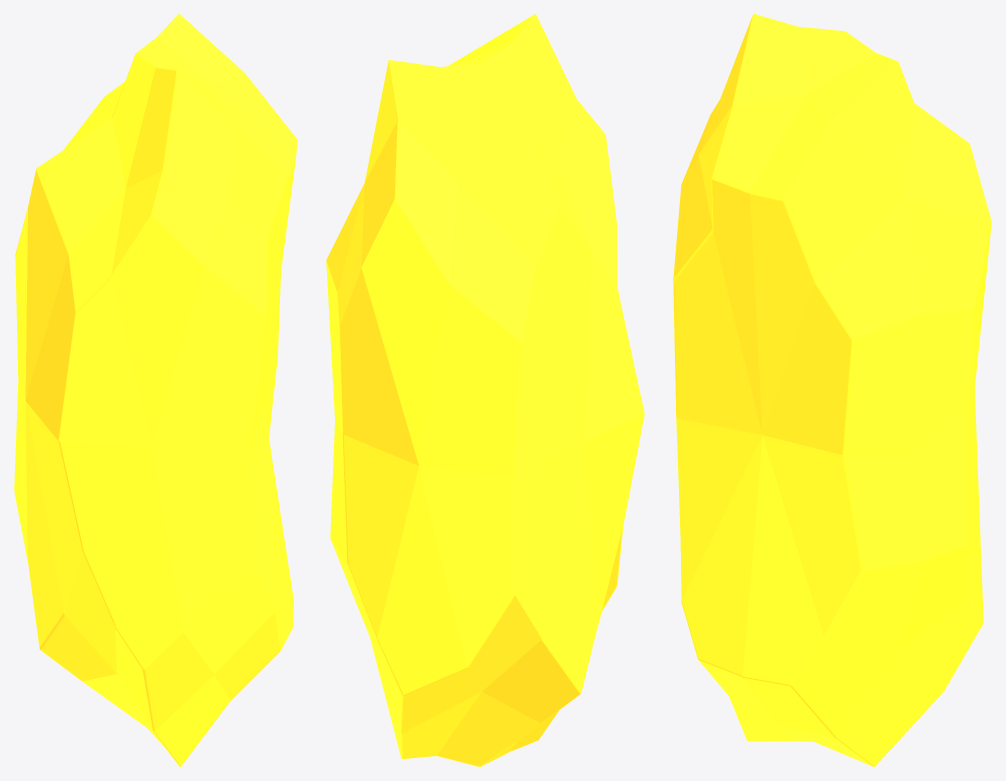
Rendered from SpecterShardOrange.fbx.
3 views of the same model, side by side, from view 1: azimuth 30°, elevation 25°; view 2: azimuth 150°, elevation 25°; view 3: azimuth 270°, elevation 25° (orthographic). The views are drawn at different scales.
Visible parts, largest first — view 1: Cube; view 2: Cube; view 3: Cube.
Part boxes in pixels (<box>): Cube: <box>14,14,297,766</box>; Cube: <box>326,14,644,766</box>; Cube: <box>673,14,991,766</box>.
Bounding box in the file's own units: 214 × 539 × 214.
